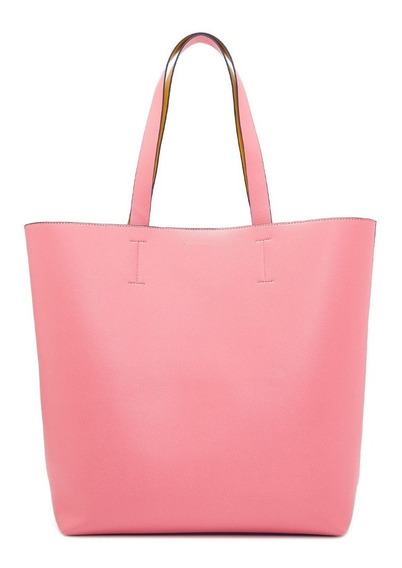cartera: (22, 31, 377, 539)
